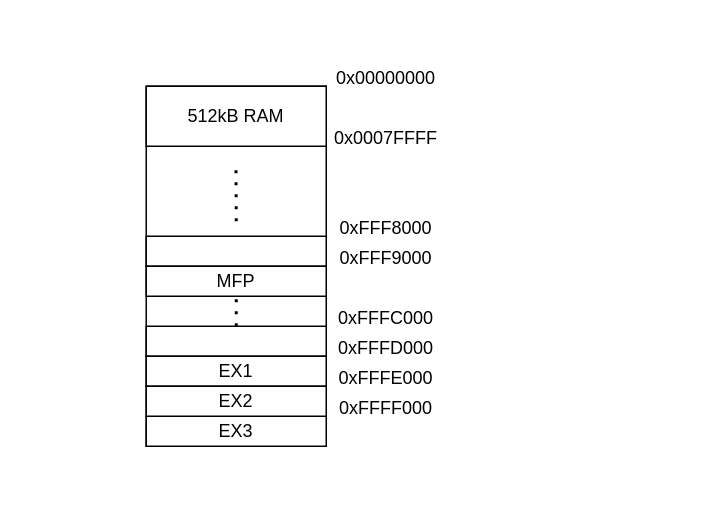
Some shapes in this 711 by 531 pixel diagram are drawn without their labels. Each missing label, with the centre of its shape:
"64k ROM" goes at [235,250].
"EX0" goes at [235,340].
